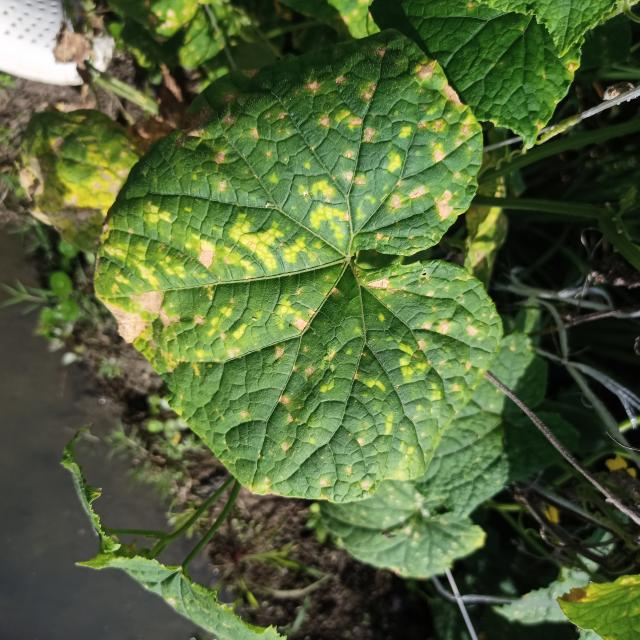disease_cucumber: (104, 38, 479, 486)
